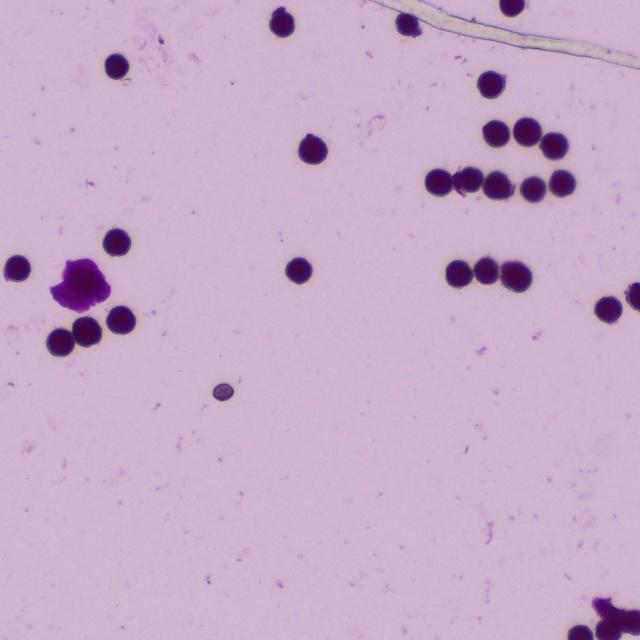viable: (283, 256, 313, 287), (501, 261, 531, 291), (298, 134, 327, 164), (72, 317, 101, 346), (483, 171, 513, 199), (513, 117, 541, 146), (453, 167, 483, 194), (540, 132, 568, 159), (594, 296, 622, 323), (107, 306, 135, 333), (269, 7, 294, 37), (477, 71, 504, 98), (103, 228, 130, 255), (425, 169, 451, 196), (446, 260, 472, 287), (46, 329, 73, 355), (483, 120, 509, 146), (4, 255, 30, 281), (550, 170, 575, 196), (520, 176, 545, 202), (105, 52, 129, 79), (474, 257, 497, 284), (396, 13, 420, 37), (596, 617, 622, 639), (621, 610, 639, 635), (499, 0, 524, 16), (626, 283, 639, 311), (567, 625, 593, 639), (213, 383, 233, 401)
